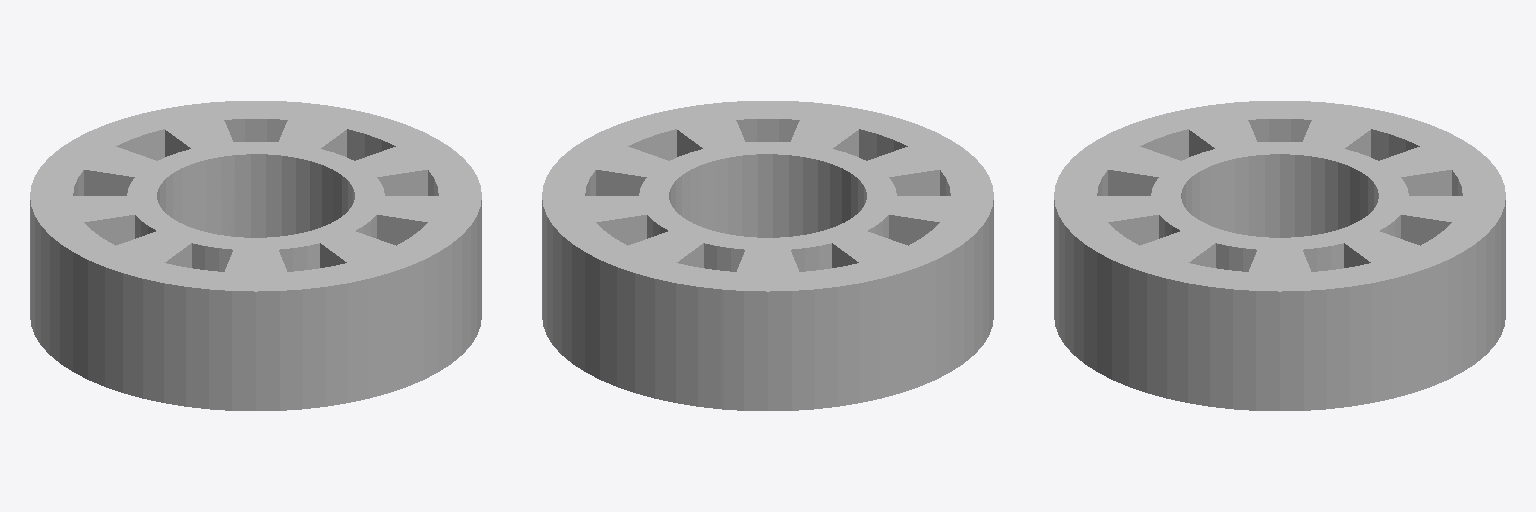
File: N1-002_pc_gfx.obj
The picture shows the model from 3 angles: view 1: azimuth 30°, elevation 25°; view 2: azimuth 150°, elevation 25°; view 3: azimuth 270°, elevation 25°; orthographic projection.
Parts seen in each view (by area): view 1: N1-002; view 2: N1-002; view 3: N1-002.
Part boxes in pixels (x1,y1,x2,y2): N1-002: (30, 101, 481, 410); N1-002: (542, 101, 993, 410); N1-002: (1054, 101, 1505, 410).
Bounding box in the file's own units: 0.251 × 0.0735 × 0.251.